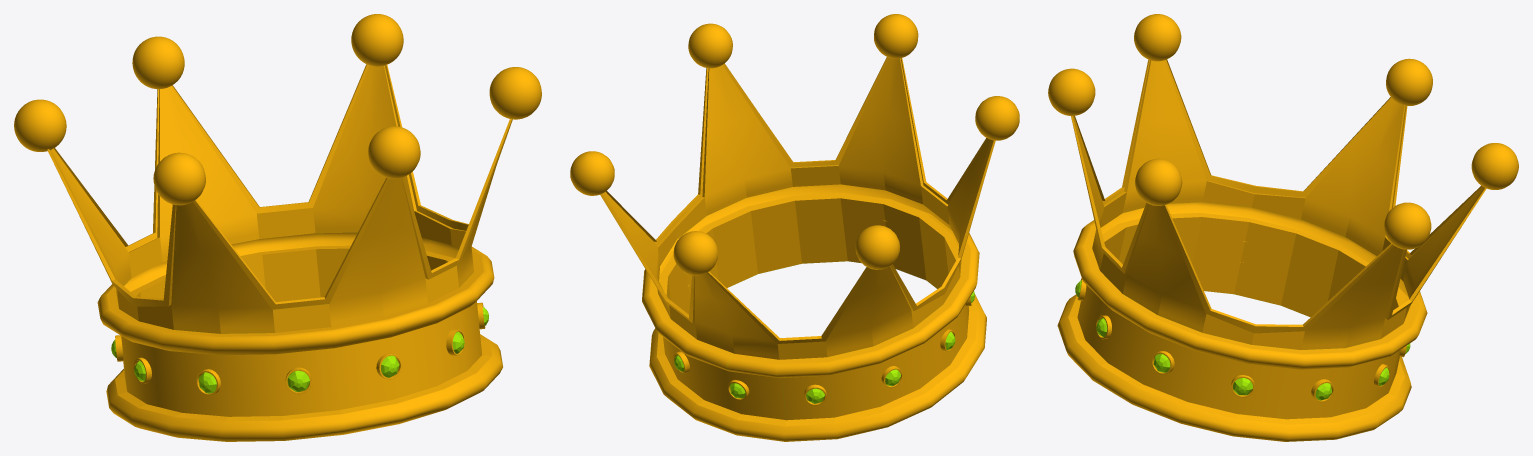
File: Crown.fbx
3 renders of one model, left to right at view 1: azimuth 30°, elevation 25°; view 2: azimuth 150°, elevation 25°; view 3: azimuth 270°, elevation 25°, orthographic. The views are drawn at different scales.
Visible parts, largest first — view 1: Crown; view 2: Crown; view 3: Crown.
Boxes of the visible parts, x1=… form: Crown: x1=14, y1=14, x2=541, y2=441; Crown: x1=570, y1=14, x2=1019, y2=441; Crown: x1=1048, y1=14, x2=1518, y2=441.
Size of the model in its own units: 50.73 by 45.42 by 60.15.
Materials: 1 (1 with a texture image).
